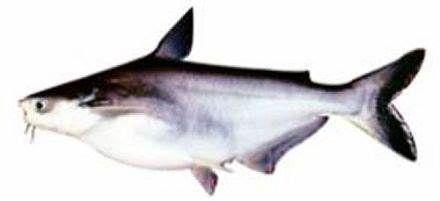Pangasius: (18, 6, 426, 197)
